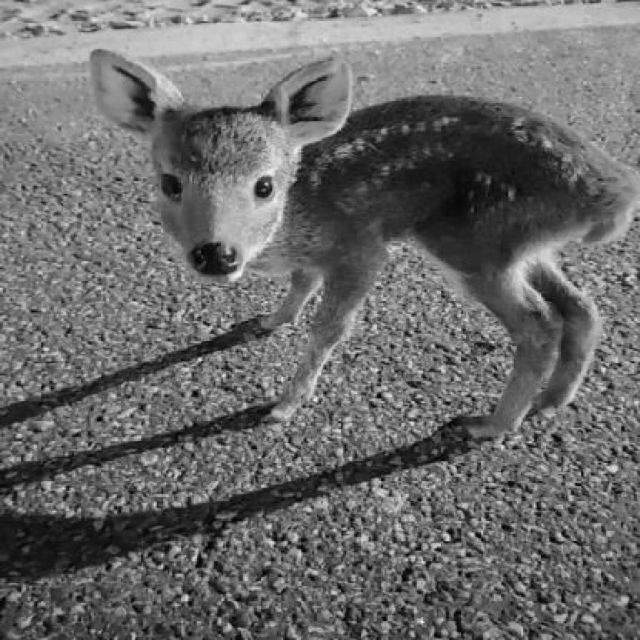Deer: (61, 21, 639, 492)
